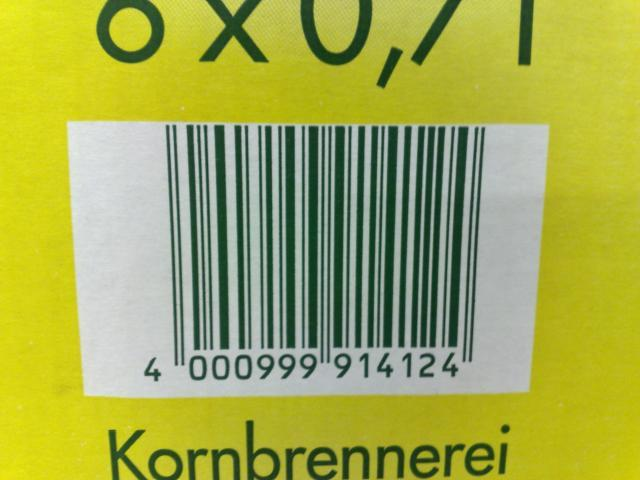Barcode: (128, 123, 493, 396)
